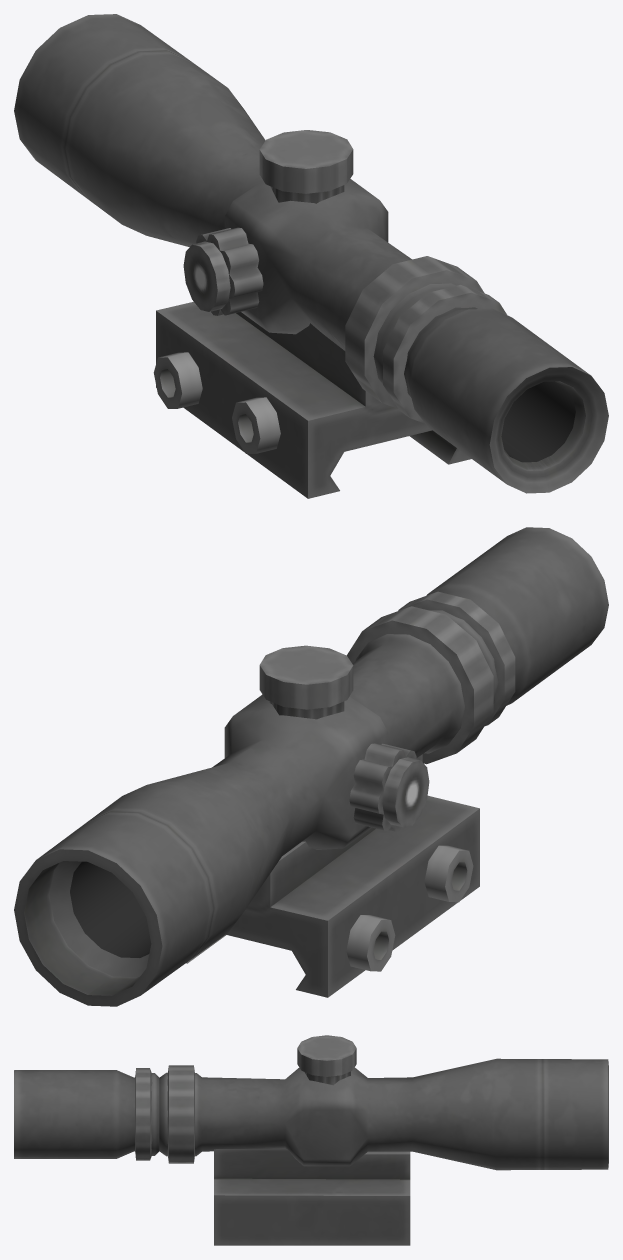
The model's file is IG_Acc_Scope_SNP_8X_1.fbx.
3 views of the same model, one above another, from view 1: azimuth 30°, elevation 25°; view 2: azimuth 150°, elevation 25°; view 3: azimuth 270°, elevation 25° (orthographic). The views are drawn at different scales.
Parts seen in each view (by area): view 1: Scope_SNP_8X_1; view 2: Scope_SNP_8X_1; view 3: Scope_SNP_8X_1.
Boxes of the visible parts, box(x1,y1,x2,y2) form: Scope_SNP_8X_1: box(14, 14, 608, 498); Scope_SNP_8X_1: box(14, 527, 608, 1006); Scope_SNP_8X_1: box(14, 1035, 608, 1245).
Bounding box in the file's own units: 0.1047 × 0.1368 × 0.4328.
